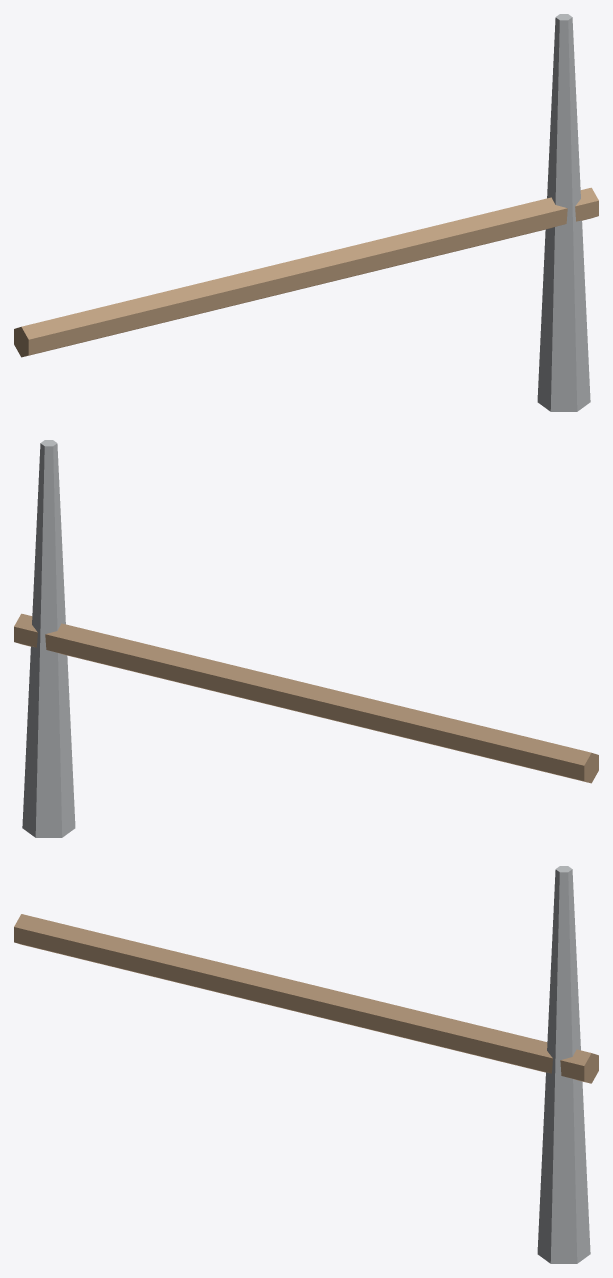
Rendered from held_tool_metal_pickaxe.glb.
3 renders of one model, top to bottom at view 1: azimuth 30°, elevation 25°; view 2: azimuth 150°, elevation 25°; view 3: azimuth 330°, elevation 25°, orthographic.
Visible parts, largest first — view 1: held_tool_metal_pickaxe; view 2: held_tool_metal_pickaxe; view 3: held_tool_metal_pickaxe.
Boxes of the visible parts, box(x1,y1,x2,y2) form: held_tool_metal_pickaxe: box(14, 14, 598, 411); held_tool_metal_pickaxe: box(14, 440, 598, 837); held_tool_metal_pickaxe: box(14, 866, 598, 1263).
Size of the model in its own units: 0.62 by 0.4 by 0.05.
